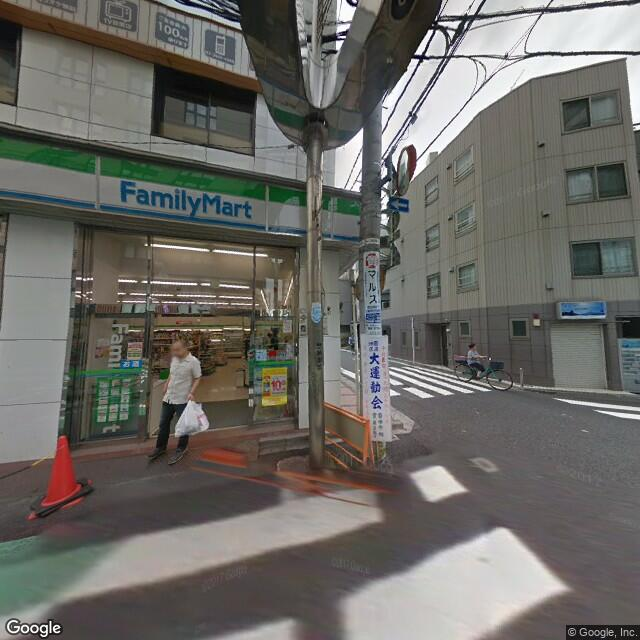family_mart: (2, 130, 362, 258), (111, 171, 259, 231)
